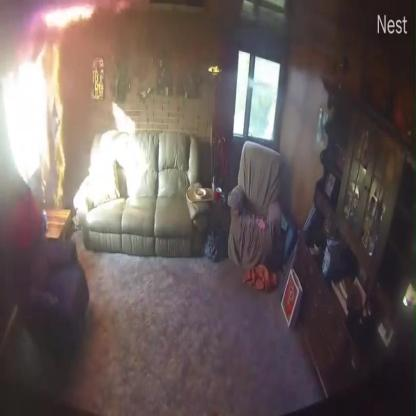fire: (30, 34, 68, 207), (33, 0, 96, 31)
